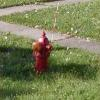Hydrant: (27, 28, 63, 78)
